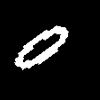chain: (15, 26, 67, 69)
